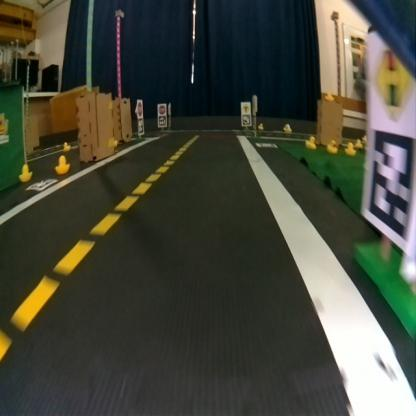Duckie: (55, 154, 69, 173), (18, 164, 31, 178), (326, 140, 337, 152), (305, 136, 315, 148), (345, 142, 355, 154), (62, 141, 70, 151), (324, 92, 332, 100), (284, 123, 290, 131), (259, 122, 263, 128)
Intersection sign: (241, 103, 250, 113)
QR code: (365, 132, 415, 242), (26, 179, 56, 187), (137, 118, 144, 132), (242, 113, 250, 125), (158, 115, 166, 126)
Stop sign: (136, 101, 142, 115), (158, 105, 164, 113)
